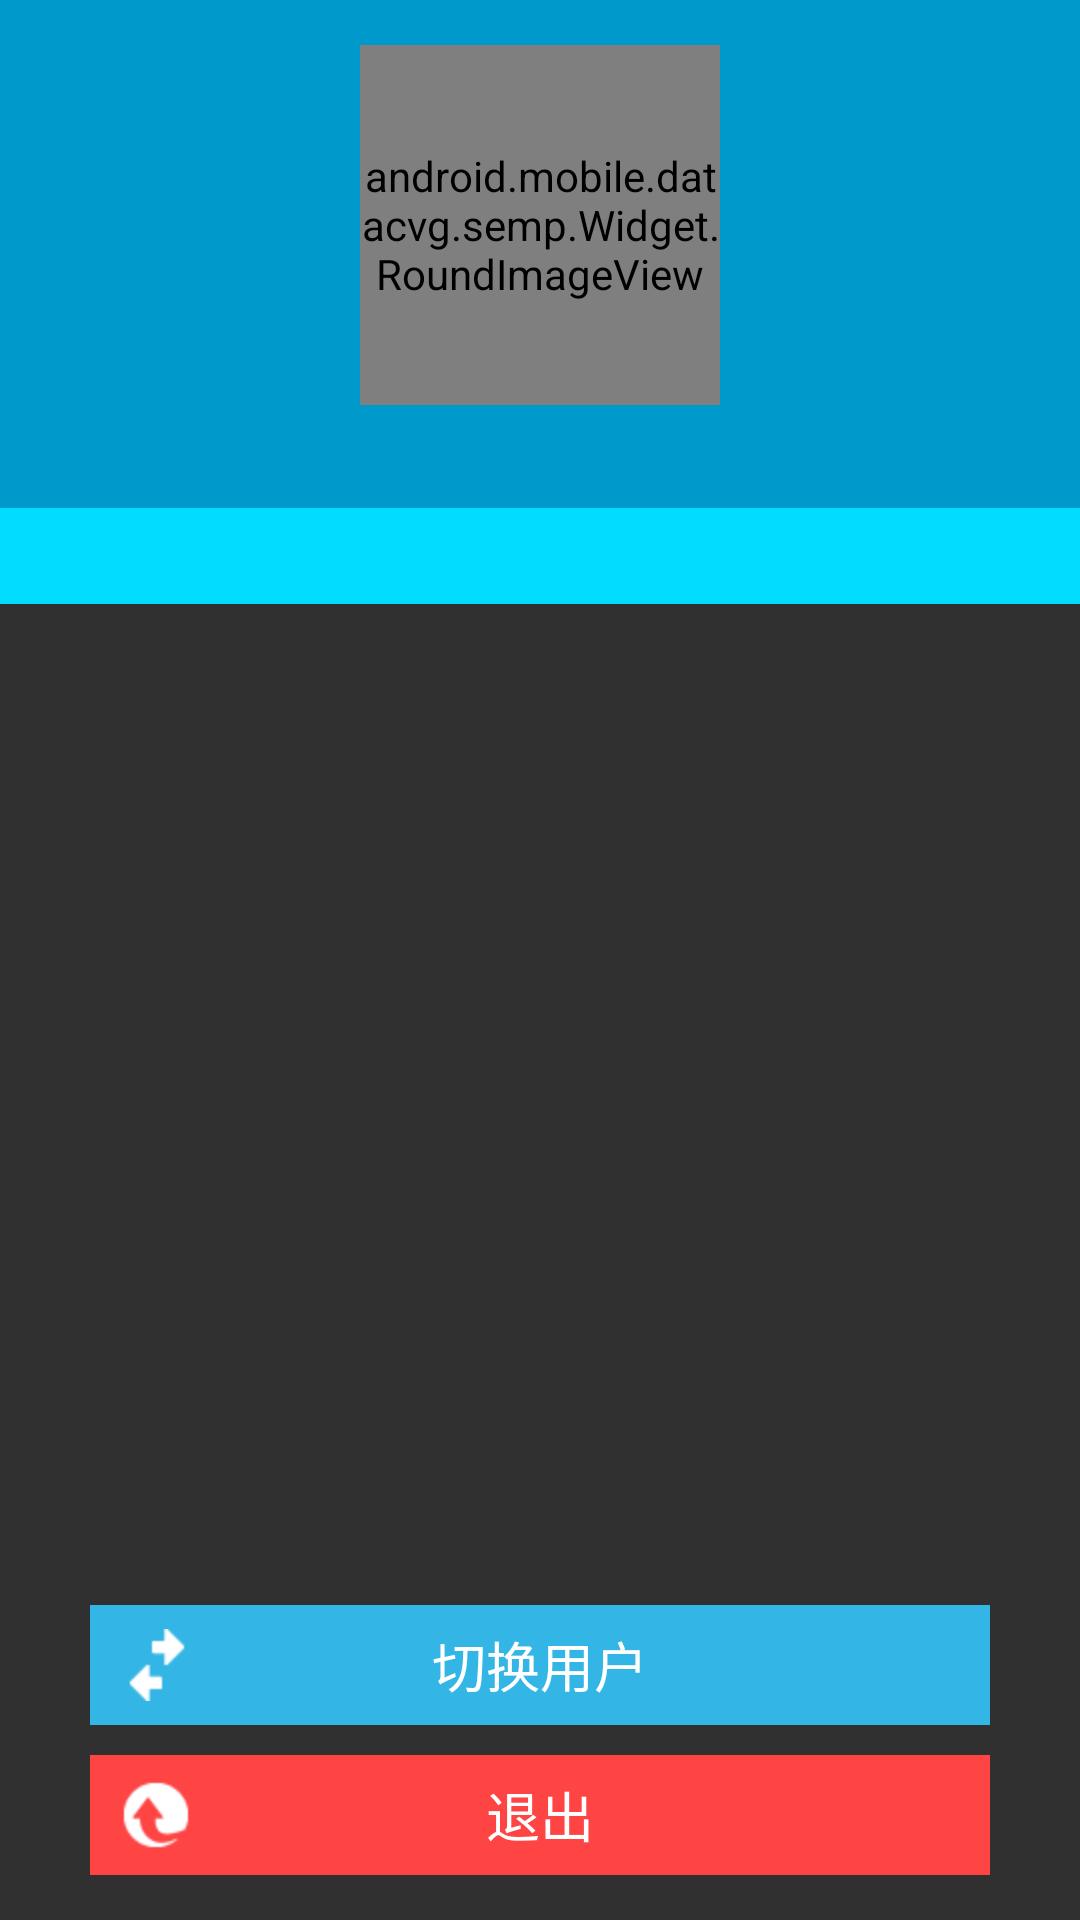

Icons on this 1080 x 1920 Android screen, each with the point to tap as (x=x, y=y):
userchange: (x=157, y=1665)
